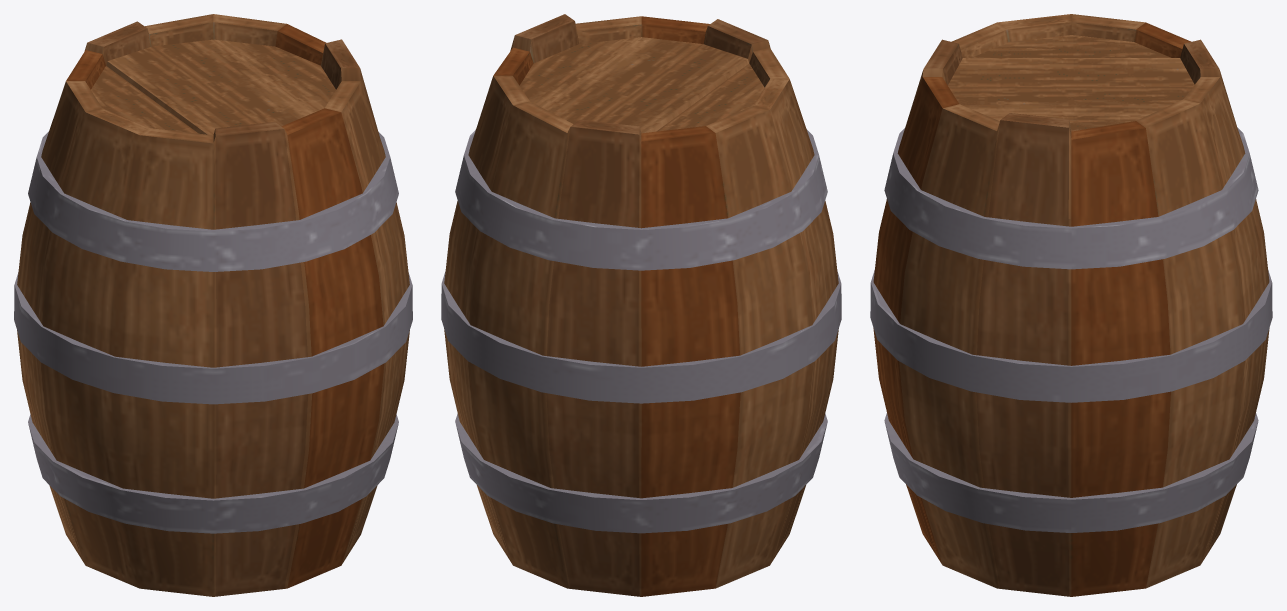
File: Barrel.glb
3 renders of one model, left to right at view 1: azimuth 30°, elevation 25°; view 2: azimuth 150°, elevation 25°; view 3: azimuth 270°, elevation 25°, orthographic.
Visible parts, largest first — view 1: Barrel; view 2: Barrel; view 3: Barrel.
Part boxes in pixels (x1,y1,x2,y2): Barrel: [14, 14, 412, 596]; Barrel: [441, 14, 841, 596]; Barrel: [870, 14, 1272, 596].
Size of the model in its own units: 0.698 by 0.898 by 0.698.
Materials: 2 (2 with a texture image).
